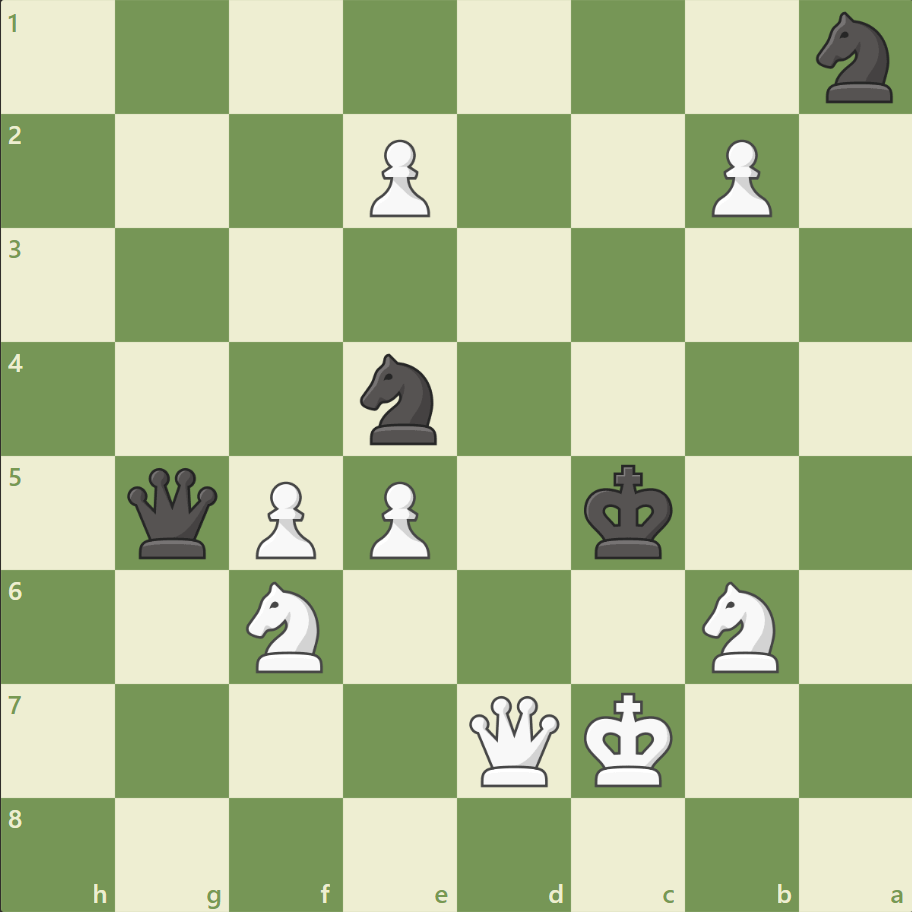K: (579, 685, 679, 793)
N: (692, 575, 789, 677), (238, 575, 335, 677)
P: (247, 473, 322, 564), (701, 132, 776, 223), (361, 473, 435, 564), (361, 132, 435, 223)
Q: (464, 690, 563, 789)
k: (579, 458, 679, 566)
n: (351, 348, 449, 450), (806, 7, 903, 110)
q: (124, 463, 223, 562)
